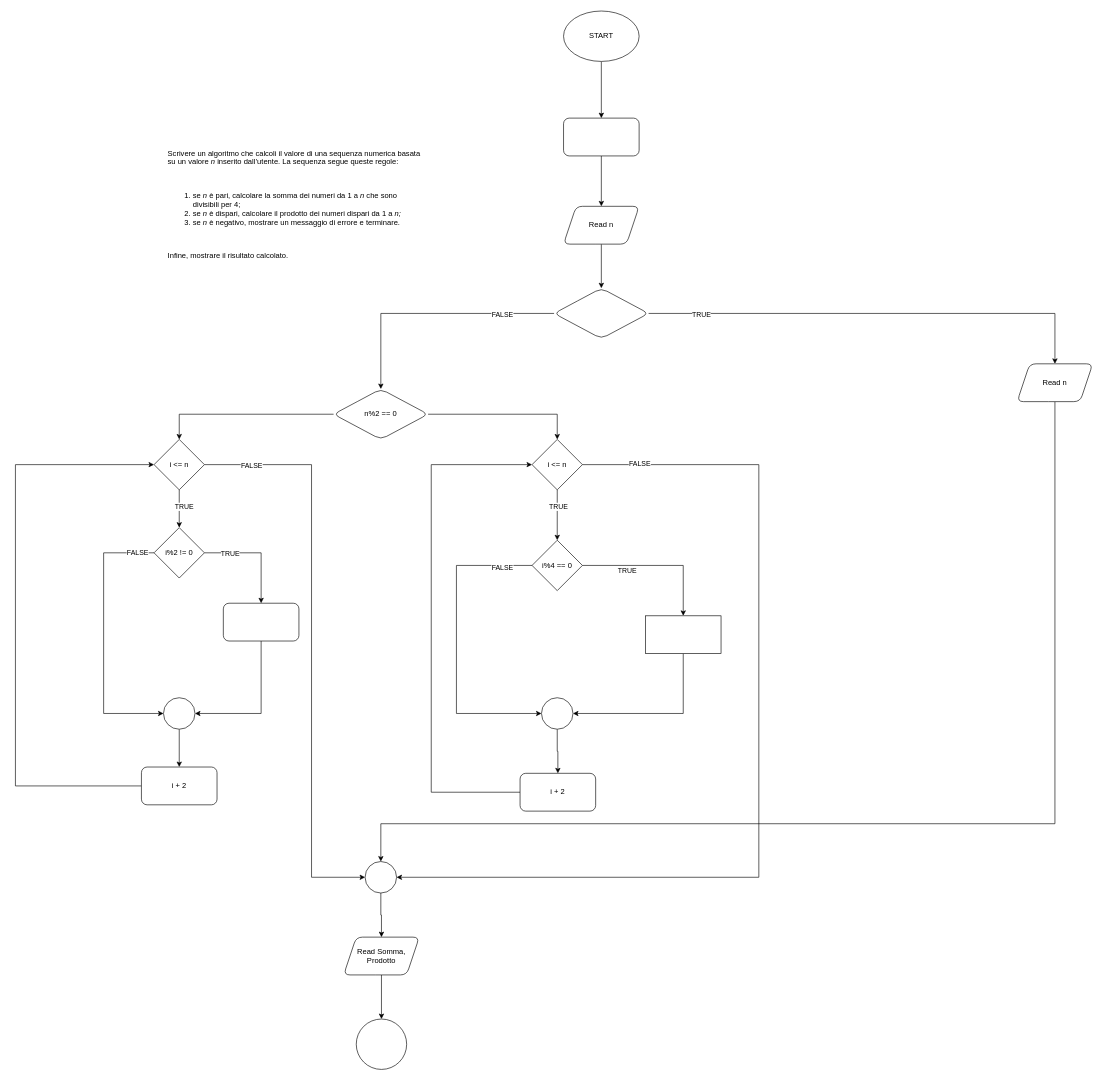
Some shapes in this 1104 by 1080 pixel diagram are drawn without their labels. Here are the shapes that lost their labels. From the top down, the centre of each, then its label:
At (601,136): "I = 0 Somma = 0 Prodotto = 1".
At (601,313): "n < 0".
At (261,622): "Prodotto *= i".
At (683,634): "Somma += i".
At (381,1043): "END".
